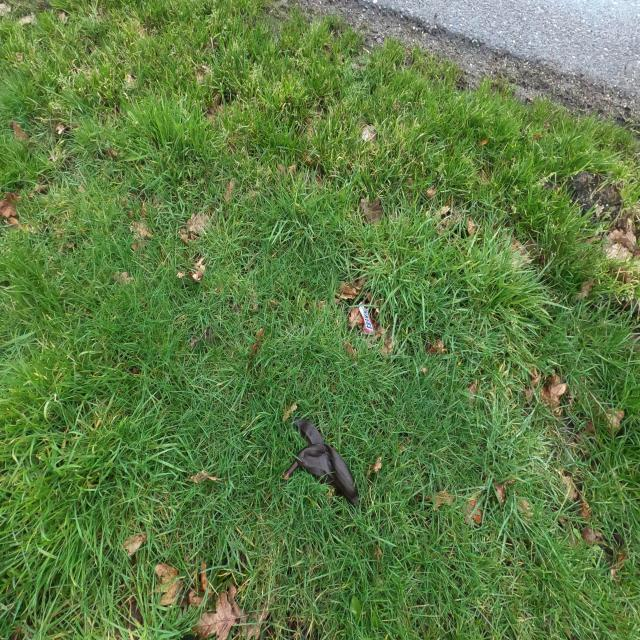Plastic: (354, 300, 376, 338)
